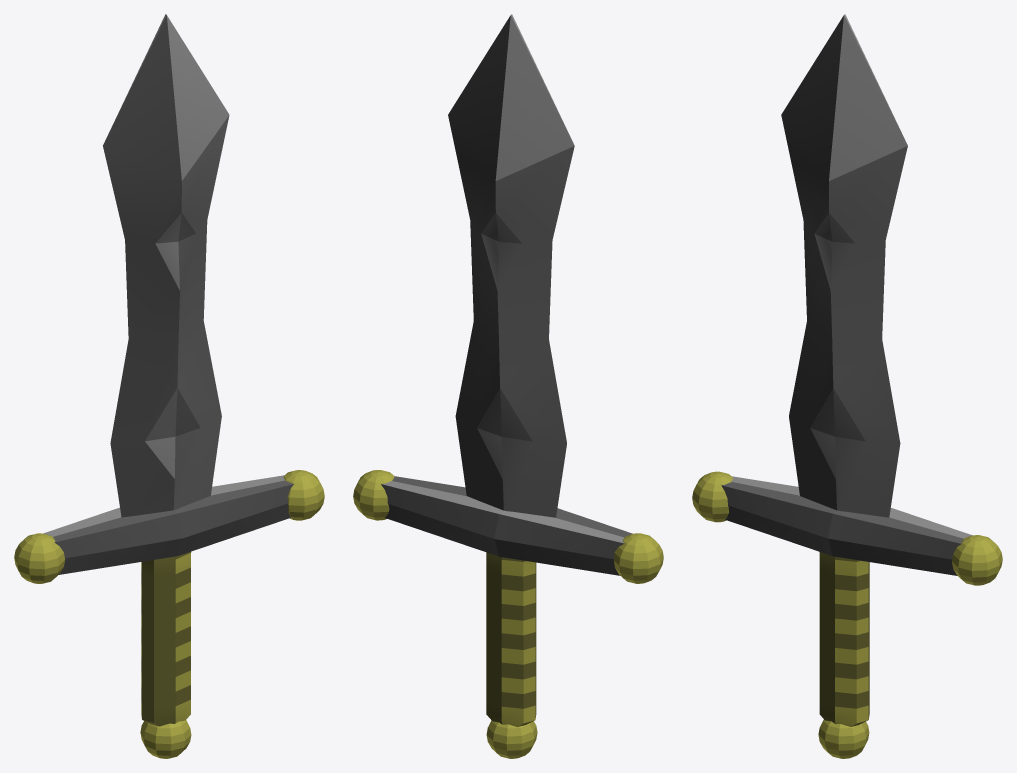
The model's file is Sword05.fbx.
3 renders of one model, left to right at view 1: azimuth 30°, elevation 25°; view 2: azimuth 150°, elevation 25°; view 3: azimuth 330°, elevation 25°, orthographic.
Visible parts, largest first — view 1: SwordExcaliber; view 2: SwordExcaliber; view 3: SwordExcaliber.
Boxes of the visible parts, box(x1,y1,x2,y2) form: SwordExcaliber: box(14, 14, 324, 758); SwordExcaliber: box(353, 14, 663, 758); SwordExcaliber: box(692, 14, 1002, 758).
Size of the model in its own units: 0.1524 by 0.3554 by 0.0293.
